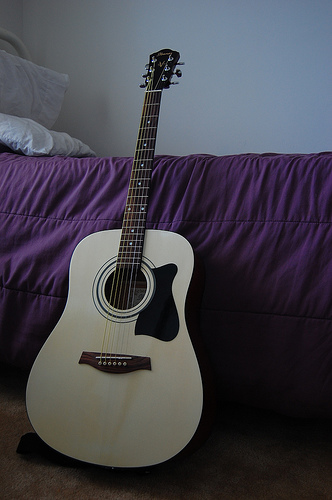acoustic guitar: (25, 46, 209, 470)
